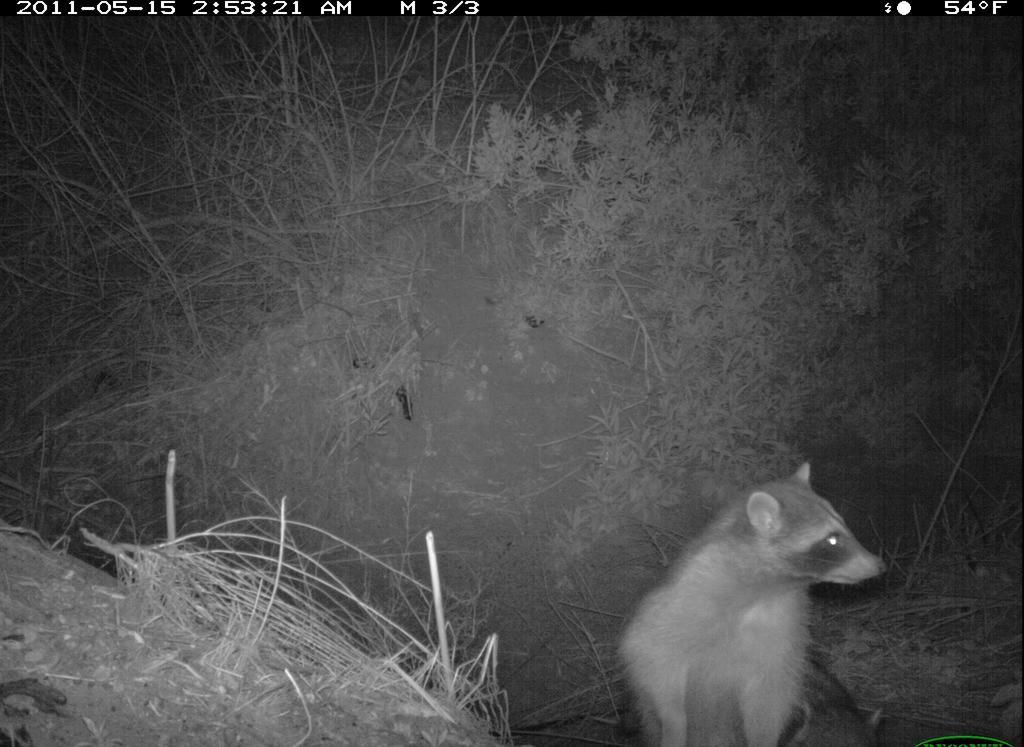raccoon: (614, 459, 891, 747)
